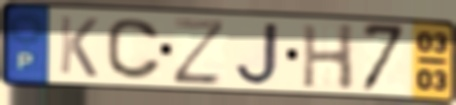7: (359, 20, 409, 95)
C: (104, 16, 165, 82)
H: (299, 22, 357, 93)
J: (232, 20, 282, 87)
K: (57, 13, 101, 80)
Z: (171, 16, 229, 87)
